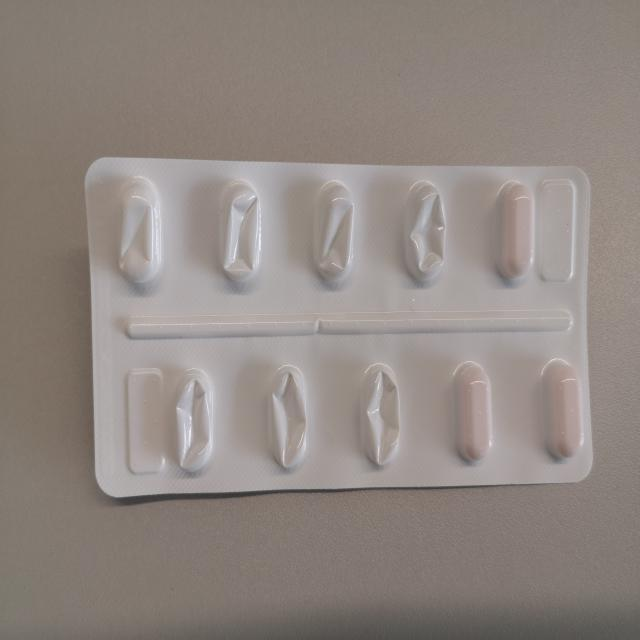Empty: (256, 355, 314, 477), (393, 175, 451, 294), (349, 354, 405, 477), (163, 361, 220, 481), (112, 176, 169, 292), (210, 178, 268, 292), (302, 175, 359, 287)
Pill: (485, 178, 542, 290), (443, 355, 497, 471), (534, 352, 586, 464)
